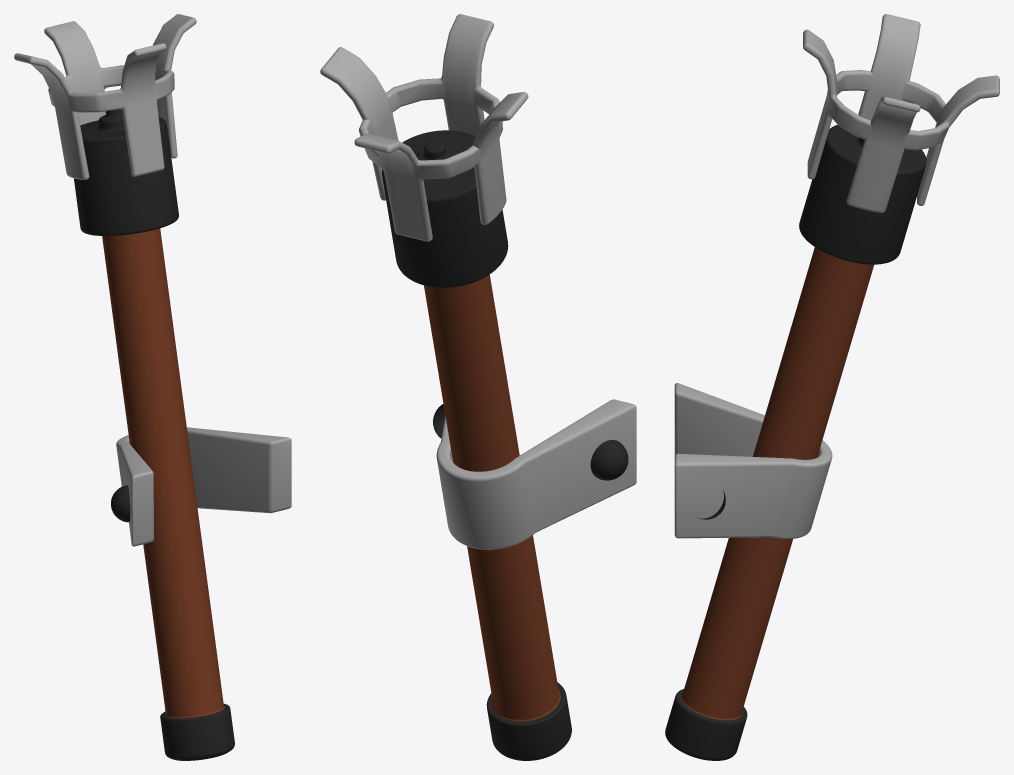
File: Torch.fbx
3 views of the same model, side by side, from view 1: azimuth 30°, elevation 25°; view 2: azimuth 150°, elevation 25°; view 3: azimuth 270°, elevation 25° (orthographic). The views are drawn at different scales.
Visible parts, largest first — view 1: Torch; view 2: Torch; view 3: Torch.
Boxes of the visible parts, box(x1,y1,x2,y2) form: Torch: box(14, 14, 291, 760); Torch: box(320, 14, 636, 760); Torch: box(665, 14, 999, 760).
Size of the model in its own units: 10.27 by 39.54 by 16.74.
